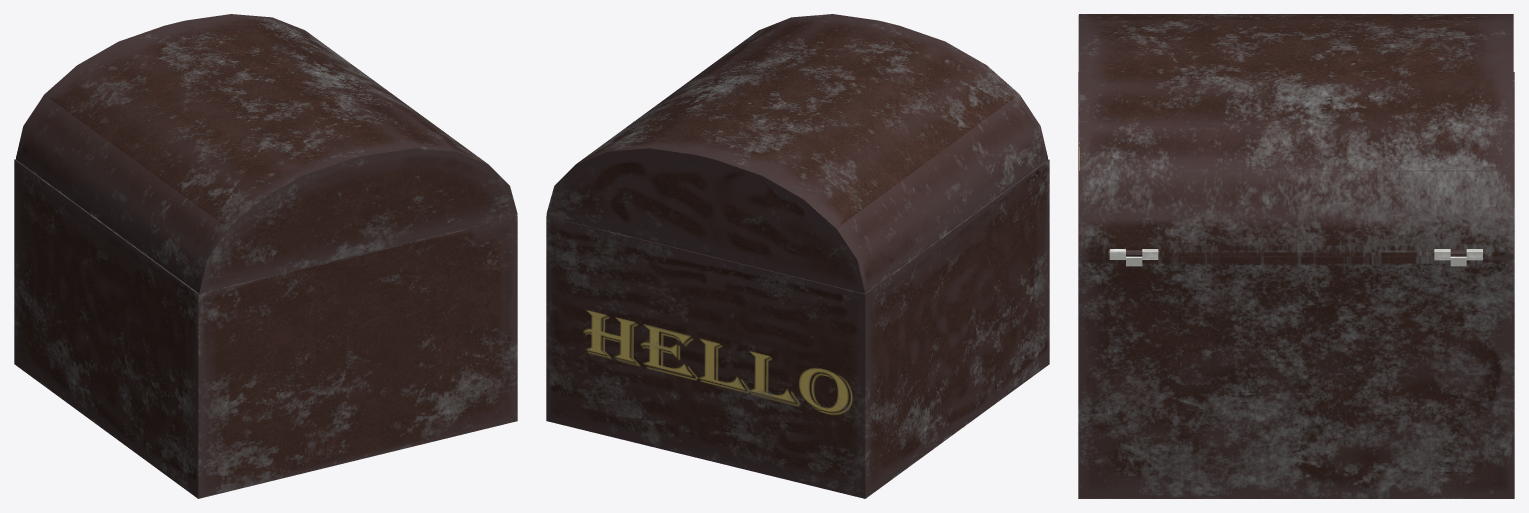
The model's file is OpenBox.fbx.
3 views of the same model, side by side, from view 1: azimuth 30°, elevation 25°; view 2: azimuth 150°, elevation 25°; view 3: azimuth 270°, elevation 25° (orthographic). The views are drawn at different scales.
Parts seen in each view (by area): view 1: Treasure Box_Low, Treasure Box_Low.002; view 2: Treasure Box_Low, Treasure Box_Low.002; view 3: Treasure Box_Low, Treasure Box_Low.002, Treasure Box_Low.001.
Part boxes in pixels (box(x1,y1,x2,y2)): Treasure Box_Low: box(14, 159, 517, 498); Treasure Box_Low.002: box(16, 14, 517, 293); Treasure Box_Low: box(546, 159, 1049, 498); Treasure Box_Low.002: box(546, 14, 1047, 293); Treasure Box_Low: box(1078, 72, 1514, 498); Treasure Box_Low.002: box(1078, 14, 1513, 266); Treasure Box_Low.001: box(1108, 249, 1484, 260).
Size of the model in its own units: 275 by 246 by 271.
2 materials, 2 textured.
